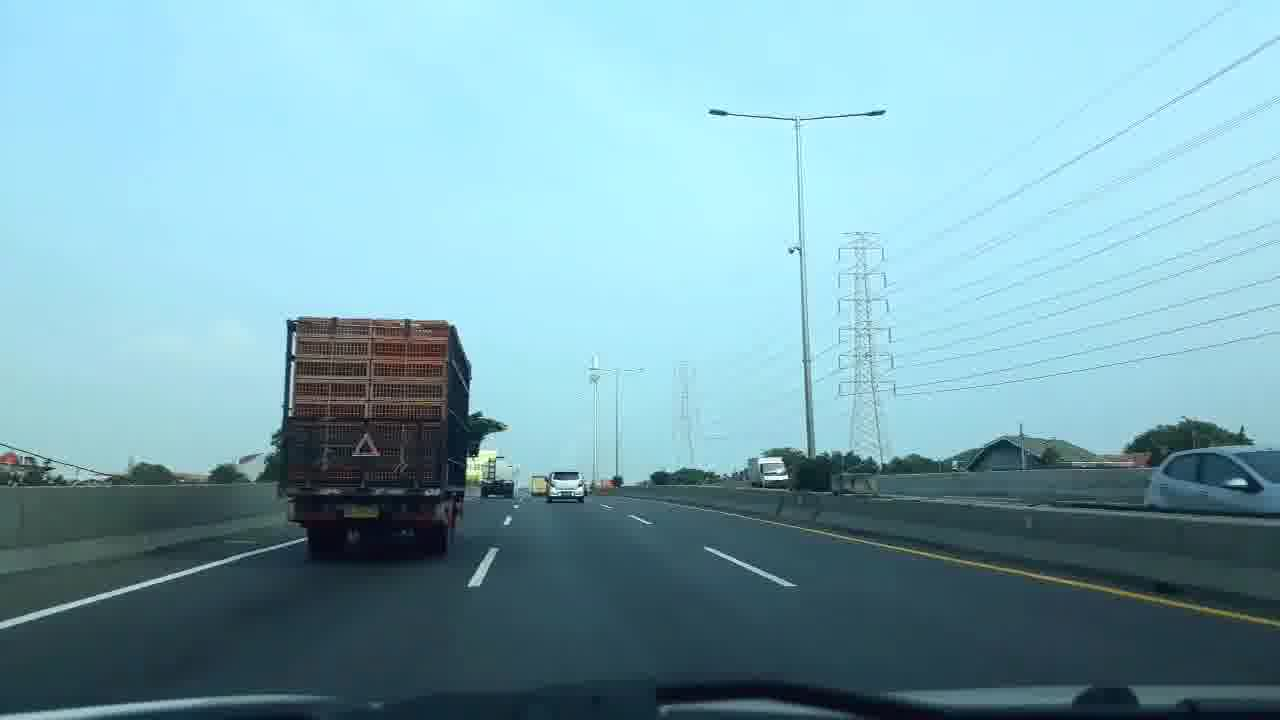plate_positive: (343, 504, 379, 518), (561, 492, 572, 496)
